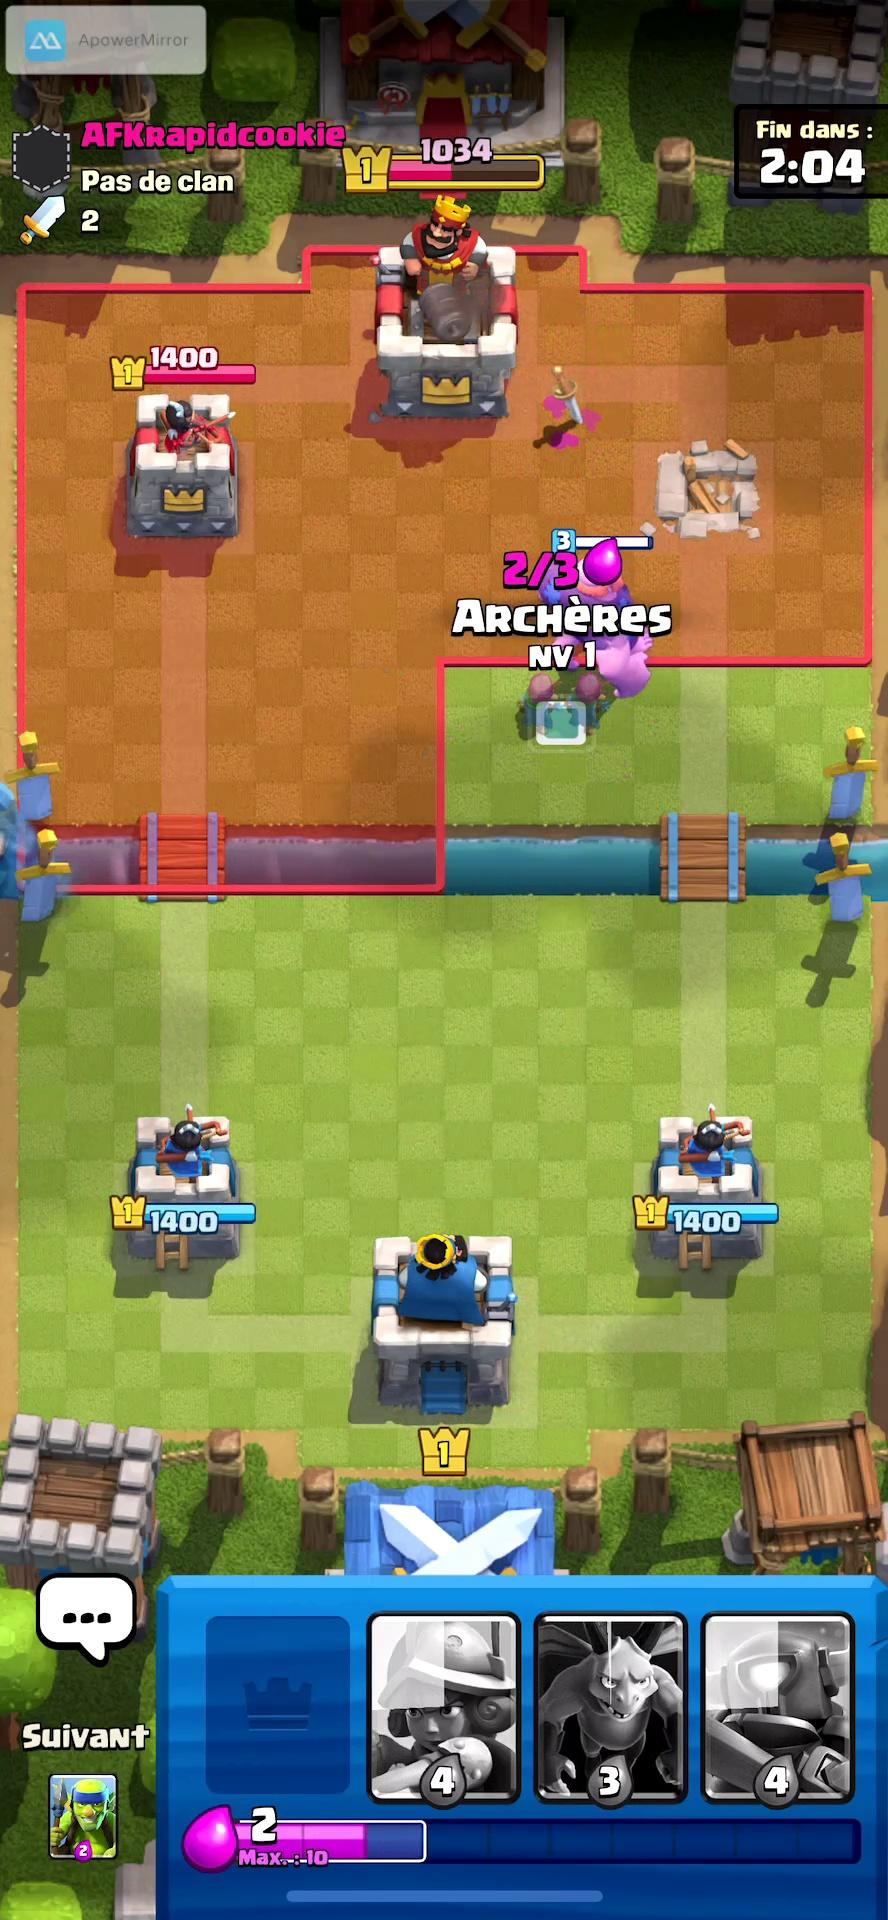archere: (568, 678, 611, 740), (517, 676, 557, 740)
geant: (530, 551, 686, 691)
